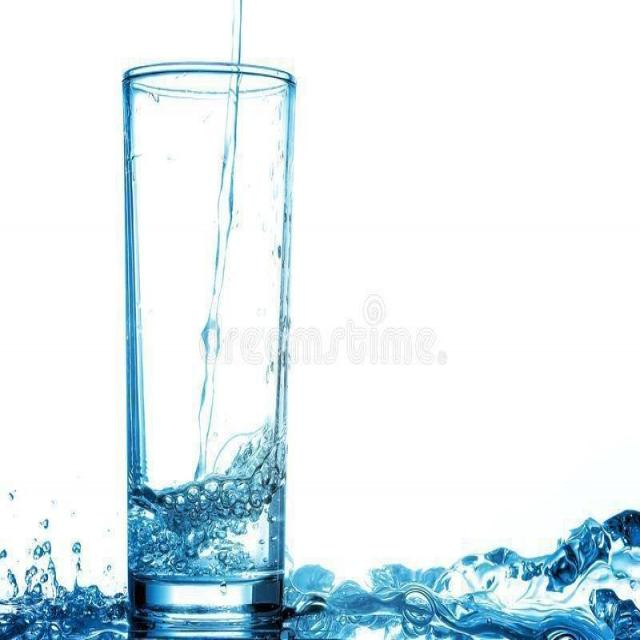glass-normal: (121, 52, 294, 635)
